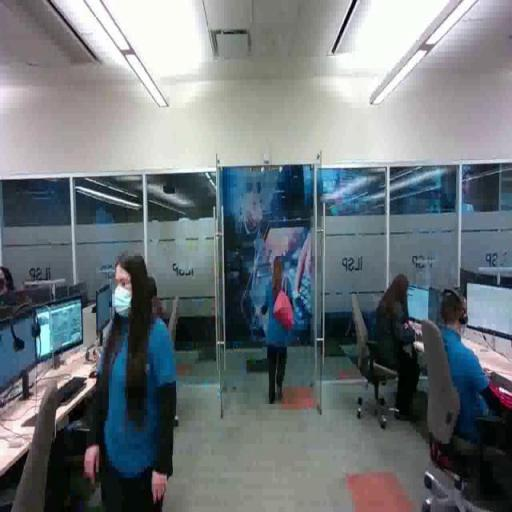person: (86, 251, 179, 512), (419, 283, 512, 498), (362, 271, 421, 423), (260, 253, 297, 405)
